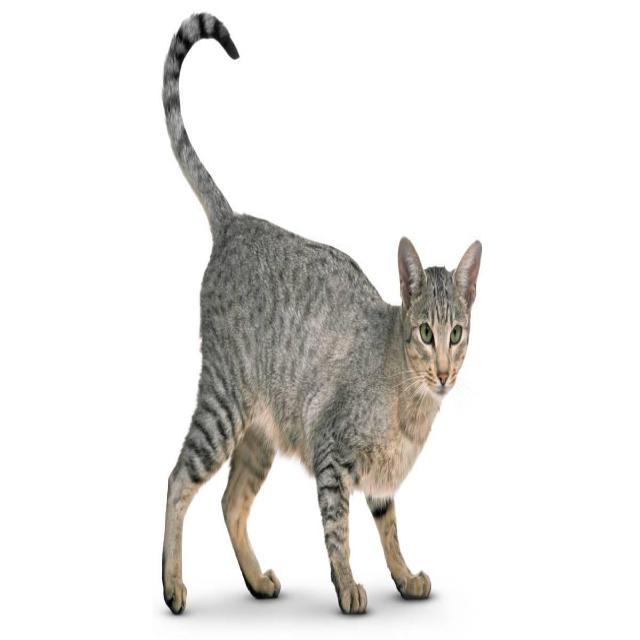Cat: (394, 225, 486, 401)
